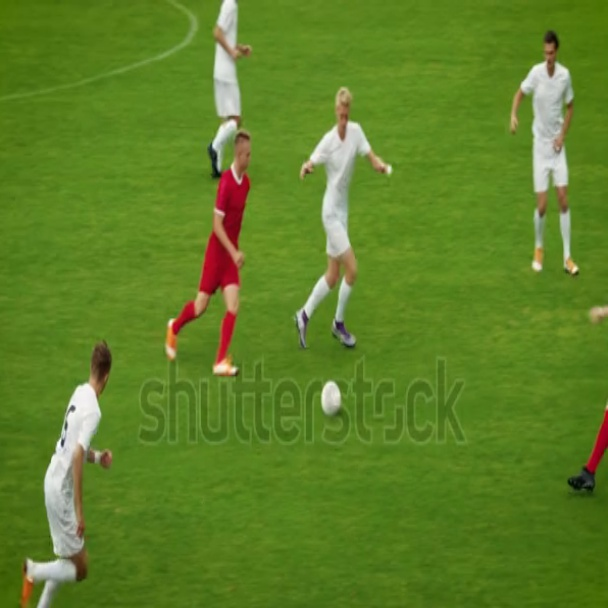ball: (315, 376, 346, 423)
